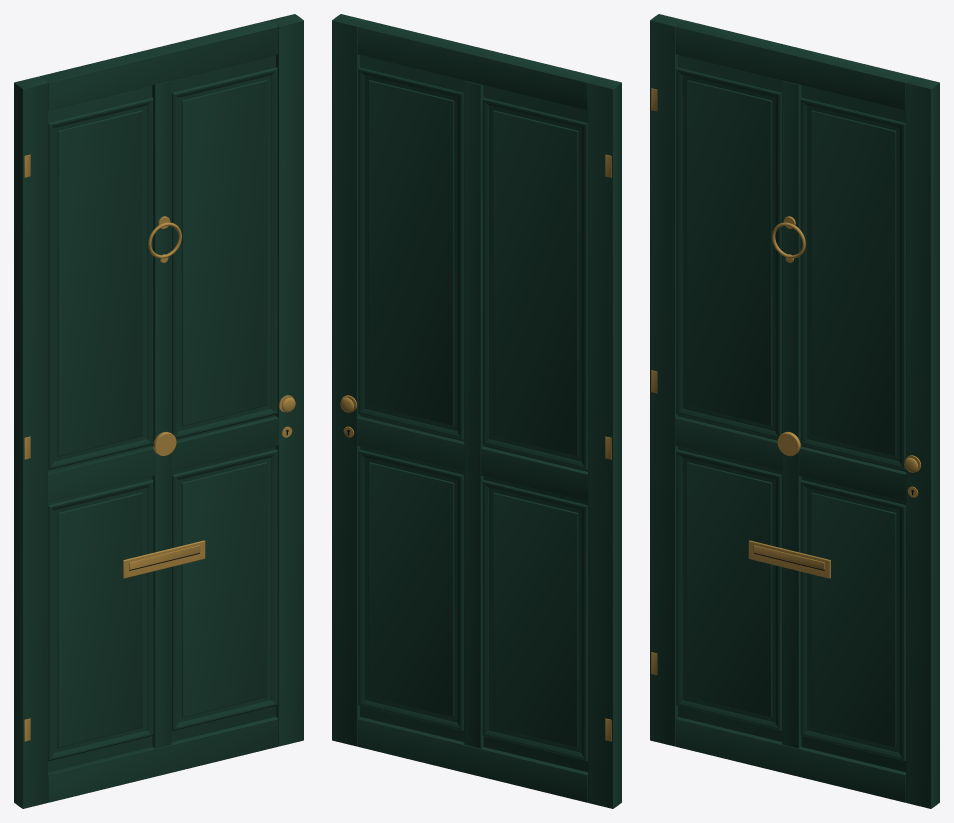
Rendered from rpg-mansion-entrance-door-01.glb.
3 renders of one model, left to right at view 1: azimuth 30°, elevation 25°; view 2: azimuth 150°, elevation 25°; view 3: azimuth 330°, elevation 25°, orthographic.
Visible parts, largest first — view 1: rpg-mansion-entrance-door-01; view 2: rpg-mansion-entrance-door-01; view 3: rpg-mansion-entrance-door-01.
Part boxes in pixels (x1,y1,x2,y2): rpg-mansion-entrance-door-01: [14, 14, 303, 808]; rpg-mansion-entrance-door-01: [332, 14, 621, 808]; rpg-mansion-entrance-door-01: [650, 14, 939, 808].
Bounding box in the file's own units: 0.94 × 2.3 × 0.09.
